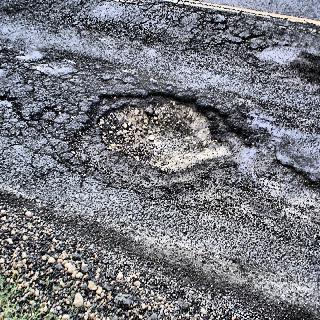alligator-crack: (0, 61, 81, 193), (153, 0, 282, 55)
crack: (268, 137, 316, 186)
pothole: (80, 84, 238, 184)
